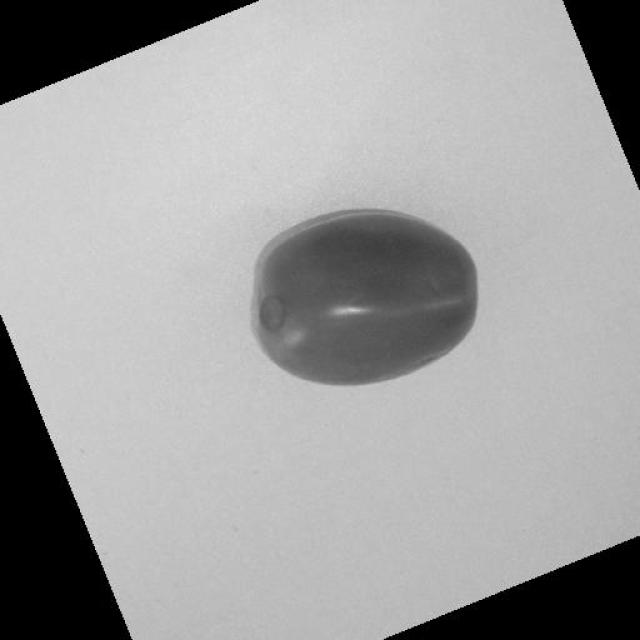Stale_tomato: (239, 189, 488, 385)
